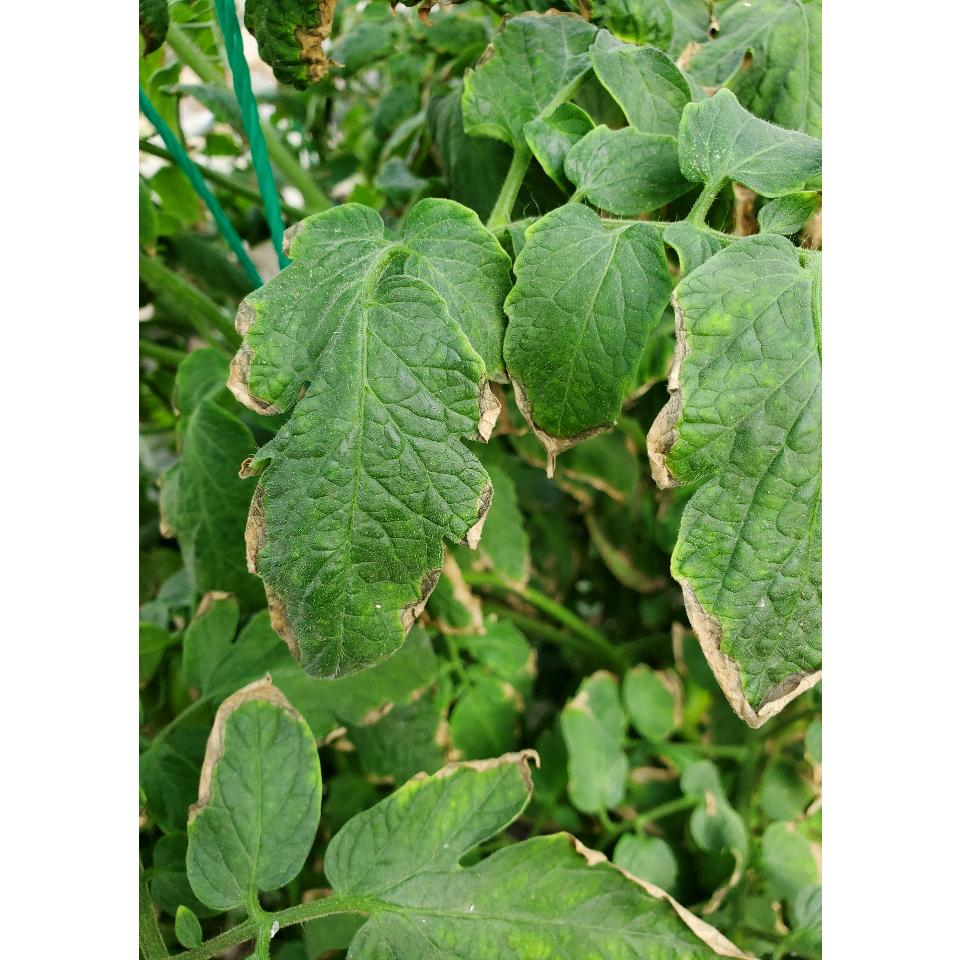tomato_bacterial_blight: (221, 205, 522, 685), (640, 235, 822, 733), (179, 664, 338, 960)
